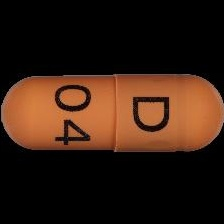16714-663: (0, 0, 224, 224)
